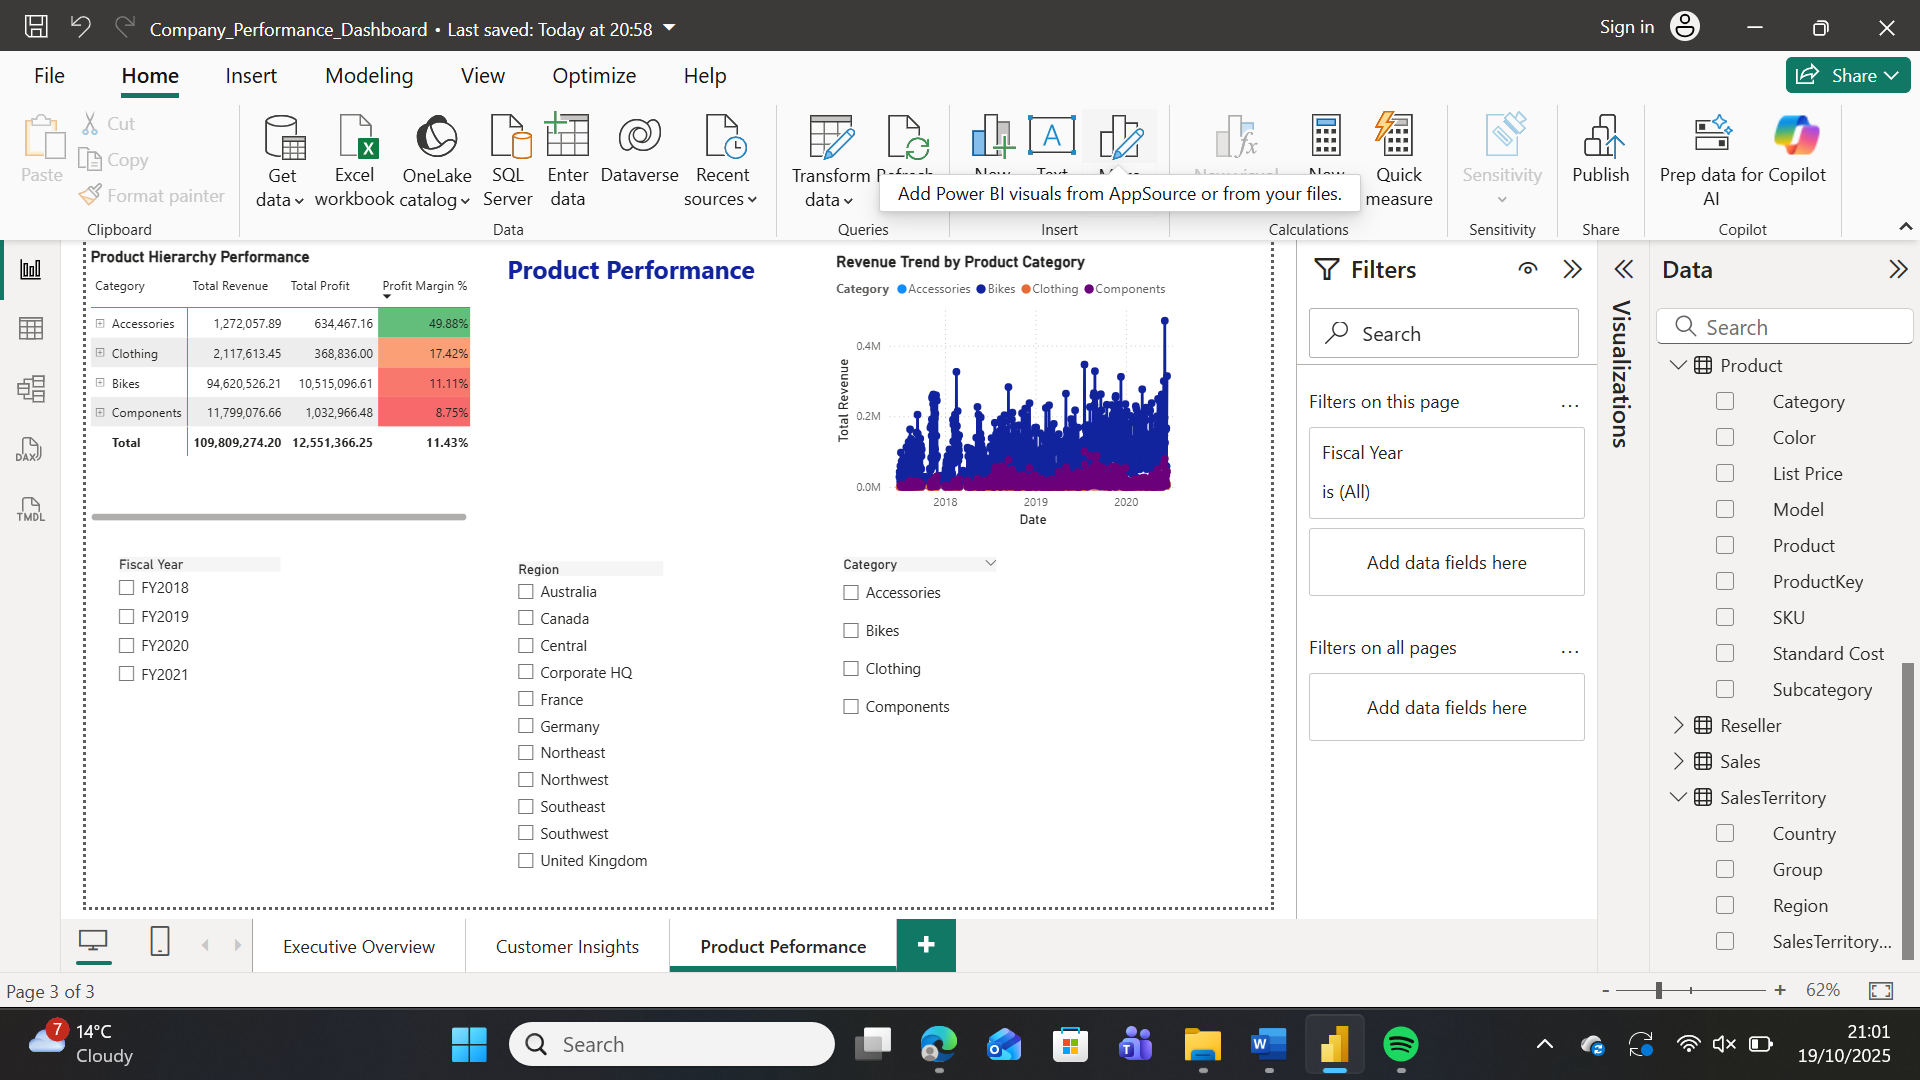

What the dashboard file says about the page in this screenshot:
{"tool":"powerbi","page":{"name":"Product Peformance","canvas":[1280,720],"ordinal":2},"visuals":[{"type":"textbox","box":[447.9,7.6,279.7,291],"z":0},{"type":"pivotTable","title":"Product Hierarchy Performance","fields":{"Rows":["Product.Category","Product.Product","Product.Subcategory"],"Values":["Sales.Total Revenue","Sales.Total Profit","Sales.Profit Margin %"]},"box":[0,7.6,419.5,300.5],"z":1000},{"type":"lineChart","title":"Revenue Trend by Product Category","fields":{"Category":["Date.Date"],"Y":["Sales.Total Revenue"],"Series":["Product.Category"]},"box":[805,13.2,379.8,300.5],"z":2000},{"type":"slicer","fields":{"Values":["Date.Fiscal Year"]},"box":[22.7,336.4,200.3,232.4],"z":3000},{"type":"slicer","fields":{"Values":["SalesTerritory.Region"]},"box":[447.9,336.4,192.8,362.8],"z":4000},{"type":"slicer","fields":{"Values":["Product.Category"]},"box":[805,336.4,190.9,362.8],"z":5000},{"type":"actionButton","box":[0,0,100,40],"z":6000},{"type":"actionButton","box":[0,0,100,40],"z":6001}]}

Visuals, with their boxes on the page's 1280x720 design canvas (x1, y1, x2, y2). These are canvas units, not pixel positions in the 1920x1080 screenshot, which may show the page scaled, cropped or inside an application window:
textbox: <region>448, 8, 728, 299</region>
"Product Hierarchy Performance" pivotTable: <region>0, 8, 420, 308</region>
"Revenue Trend by Product Category" lineChart: <region>805, 13, 1185, 314</region>
slicer - Date.Fiscal Year: <region>23, 336, 223, 569</region>
slicer - SalesTerritory.Region: <region>448, 336, 641, 699</region>
slicer - Product.Category: <region>805, 336, 996, 699</region>
actionButton: <region>0, 0, 100, 40</region>
actionButton: <region>0, 0, 100, 40</region>
